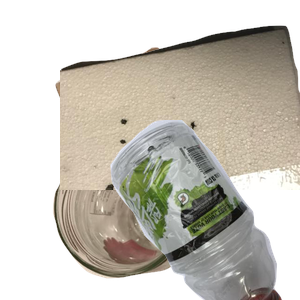cardboard: (53, 45, 221, 204)
glass: (50, 131, 252, 300)
plastic: (73, 120, 300, 300)
trash: (60, 23, 300, 203)
